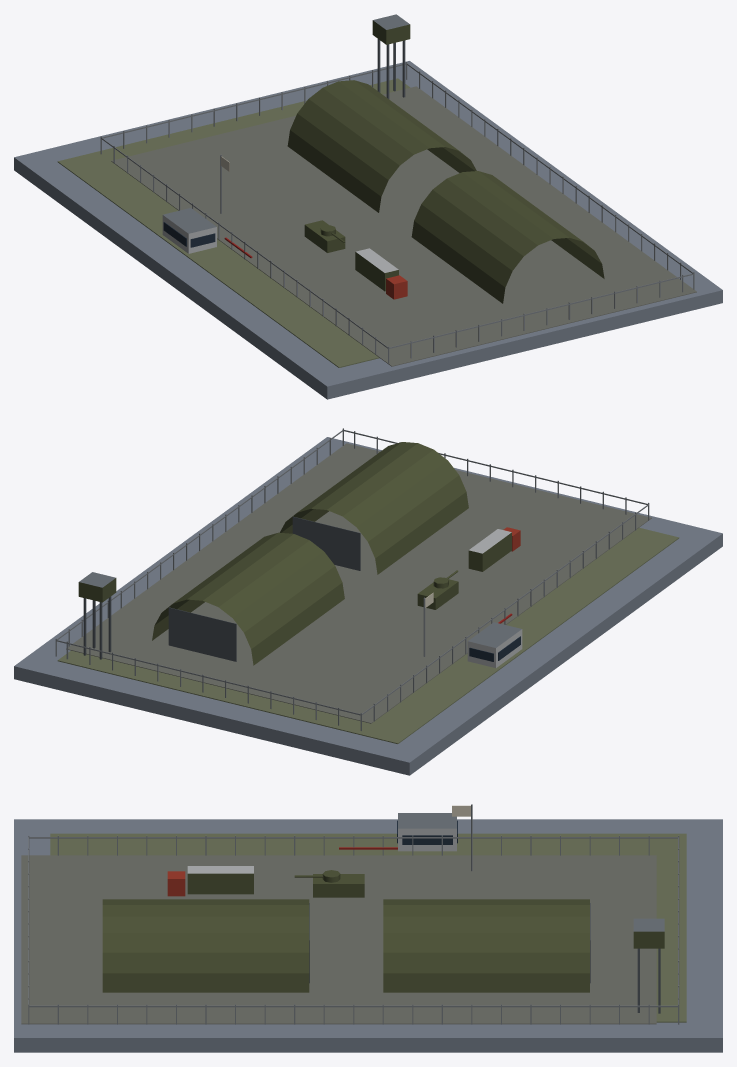
Rendered from military_base.glb.
3 views of the same model, one above another, from view 1: azimuth 30°, elevation 25°; view 2: azimuth 150°, elevation 25°; view 3: azimuth 270°, elevation 25° (orthographic). The views are drawn at different scales.
Visible parts, largest first — view 1: military_base; view 2: military_base; view 3: military_base.
Boxes of the visible parts, x1,y1,x2,y2 form: military_base: [14, 14, 722, 399]; military_base: [14, 428, 722, 775]; military_base: [14, 804, 722, 1052].
Bounding box in the file's own units: 70 × 14.85 × 96.
